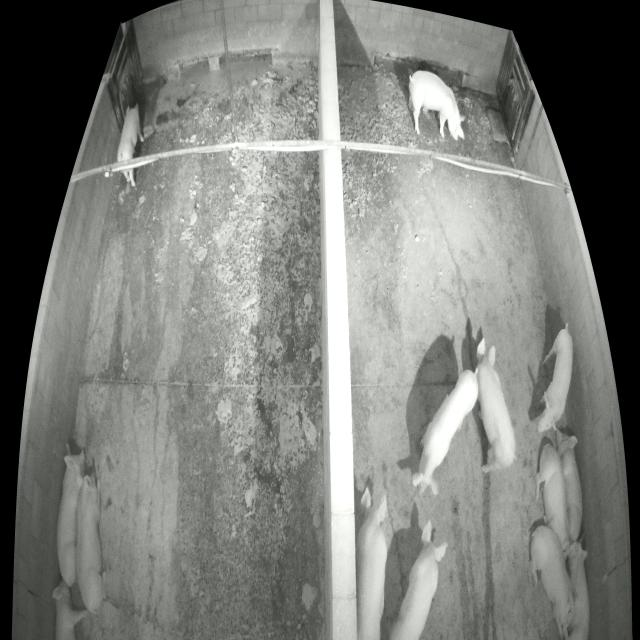pig: (412, 369, 478, 497), (388, 519, 447, 637), (529, 526, 579, 639), (477, 336, 515, 473), (356, 487, 388, 640), (74, 471, 106, 612), (56, 449, 88, 588), (408, 71, 465, 140), (538, 329, 573, 439), (535, 442, 569, 551), (556, 426, 584, 543), (564, 533, 589, 639), (116, 102, 144, 187), (51, 579, 88, 640)
